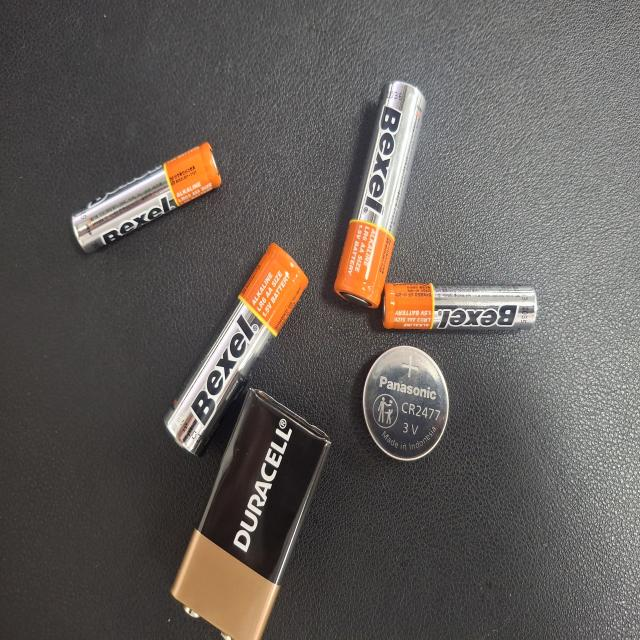9V: (309, 0, 468, 251)
AA: (332, 186, 475, 397), (214, 332, 306, 558)
AAA: (419, 388, 568, 498), (103, 309, 257, 358)
COIN: (192, 181, 276, 294)
